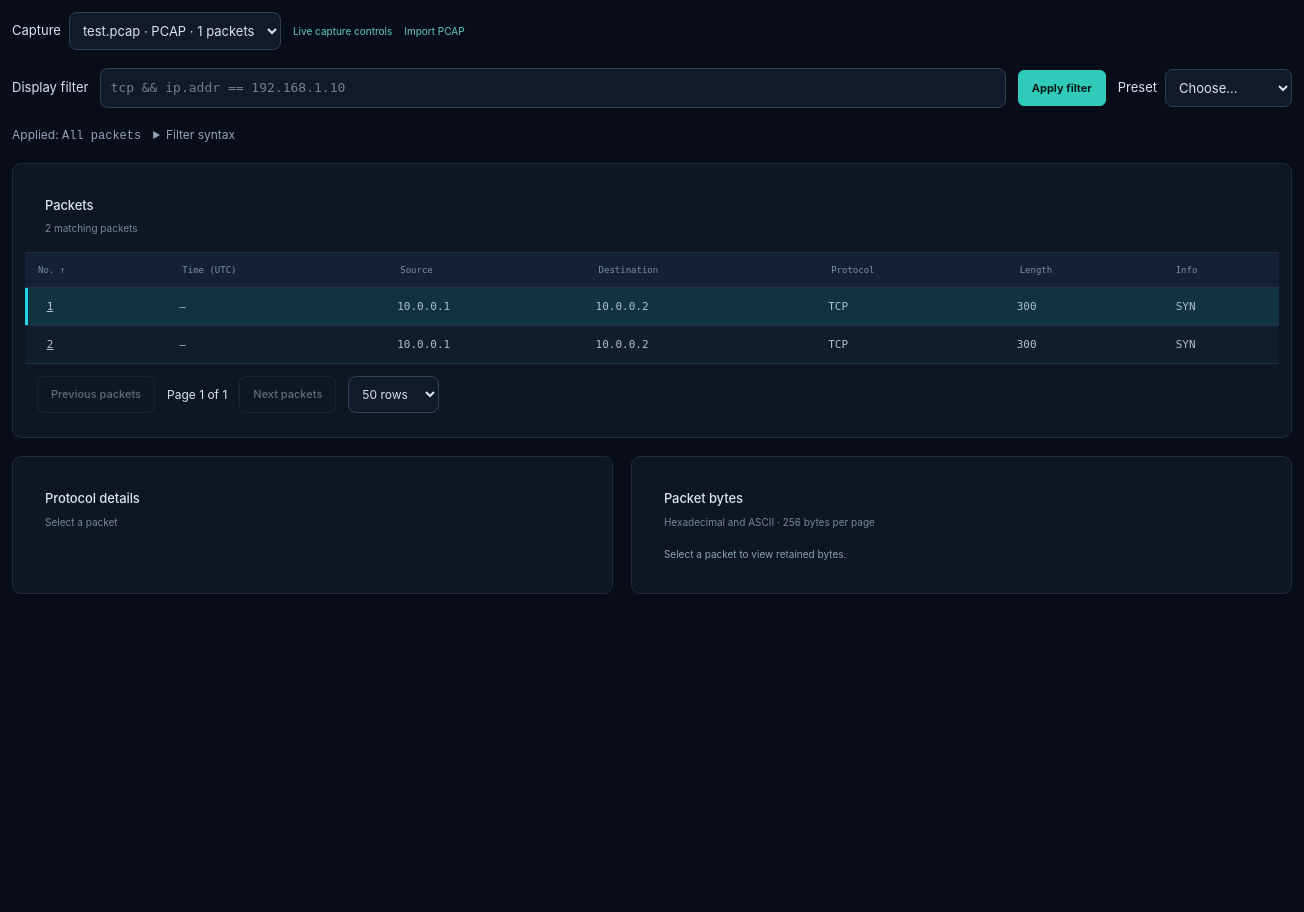
Test: ignores a stale packet detail response after another packet is selected
Click the button named "Inspect packet 2".
click(50, 344)  # box [35,335,65,354]
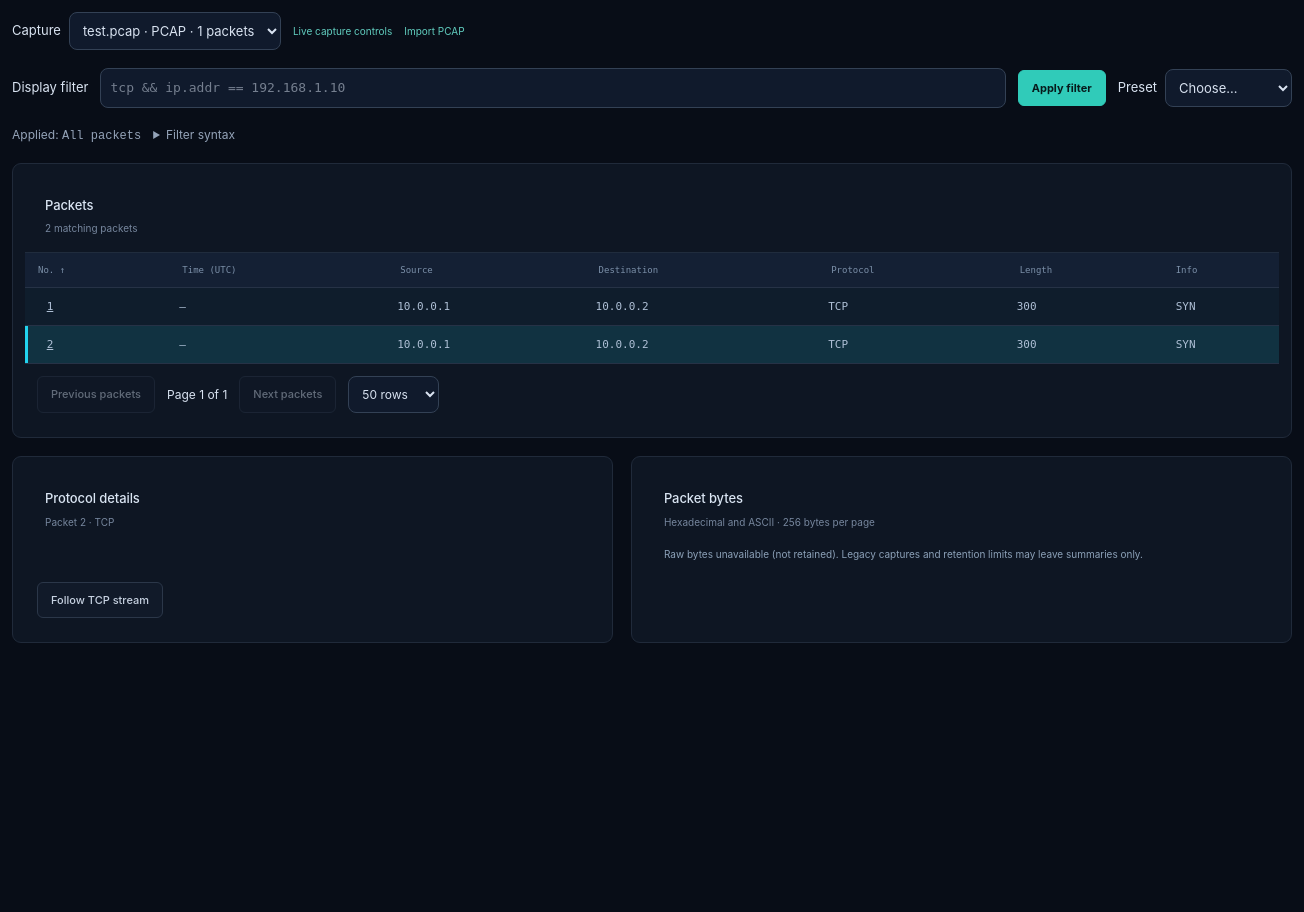
Expected: the text "Packet 2 · TCP" is shown, [45,516,114,528]
